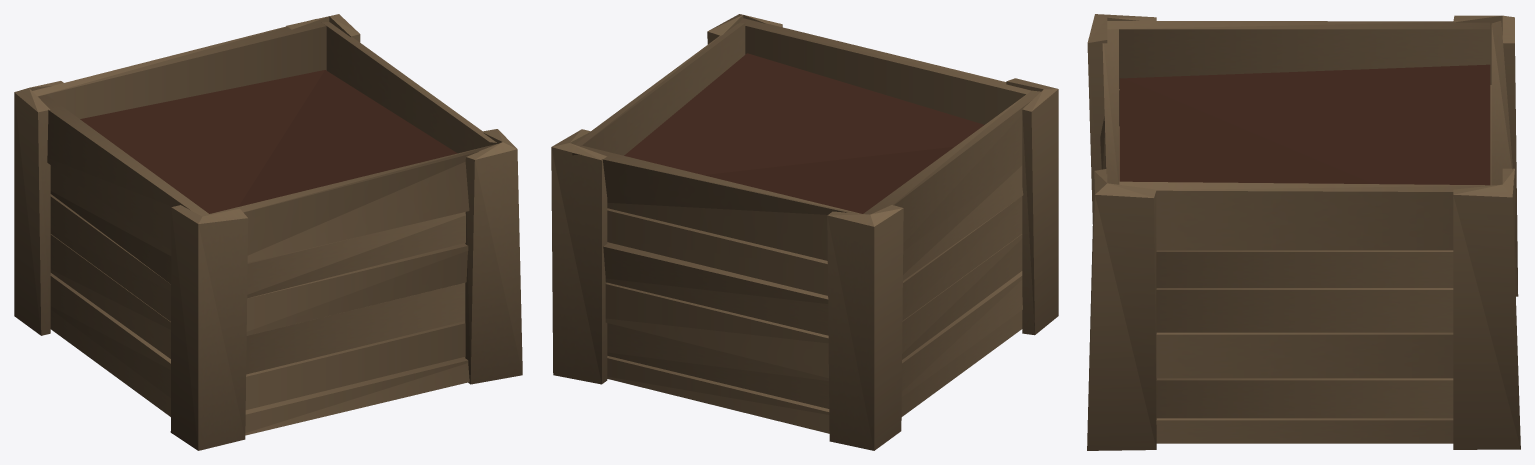
Rendered from ZLP_Build_E_5.FBX.
3 views of the same model, side by side, from view 1: azimuth 30°, elevation 25°; view 2: azimuth 150°, elevation 25°; view 3: azimuth 270°, elevation 25° (orthographic). The views are drawn at different scales.
Parts seen in each view (by area): view 1: ZLP_Build_E_5; view 2: ZLP_Build_E_5; view 3: ZLP_Build_E_5.
Boxes of the visible parts, x1,y1,x2,y2 form: ZLP_Build_E_5: [14, 14, 522, 450]; ZLP_Build_E_5: [551, 14, 1058, 450]; ZLP_Build_E_5: [1087, 14, 1520, 450].
Bounding box in the file's own units: 63.37 × 42.47 × 63.72.
